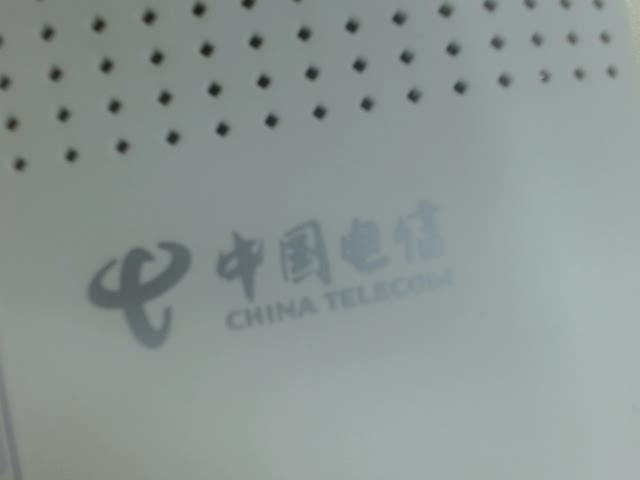ChinaTelecom1: (67, 191, 488, 358)
